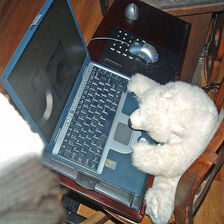laptop: (5, 2, 158, 216)
